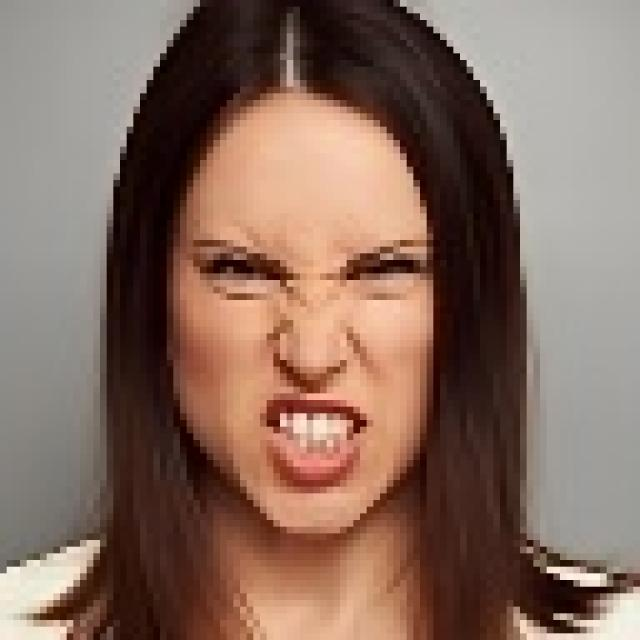angry: (105, 18, 519, 640)
